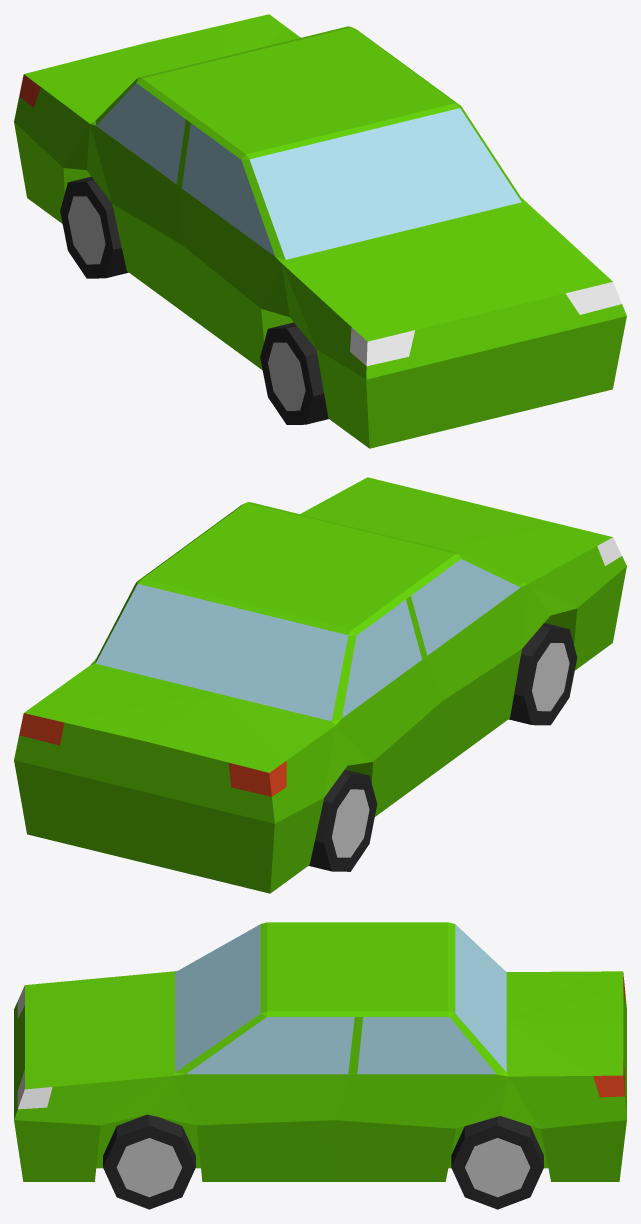
The model's file is Sedan.fbx.
3 renders of one model, top to bottom at view 1: azimuth 30°, elevation 25°; view 2: azimuth 150°, elevation 25°; view 3: azimuth 270°, elevation 25°, orthographic. The views are drawn at different scales.
Visible parts, largest first — view 1: Sedan; view 2: Sedan; view 3: Sedan.
Boxes of the visible parts, box(x1,y1,x2,y2) form: Sedan: box(14, 14, 626, 448); Sedan: box(14, 477, 626, 893); Sedan: box(14, 922, 626, 1209).
Bounding box in the file's own units: 350 × 272 × 810.
